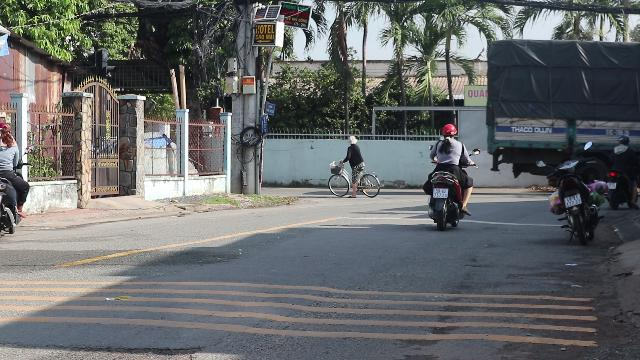helmet: (440, 122, 456, 138), (0, 120, 10, 140)
licenseplate: (434, 188, 448, 197)
motorcyclist: (422, 123, 473, 229), (1, 109, 32, 241)
